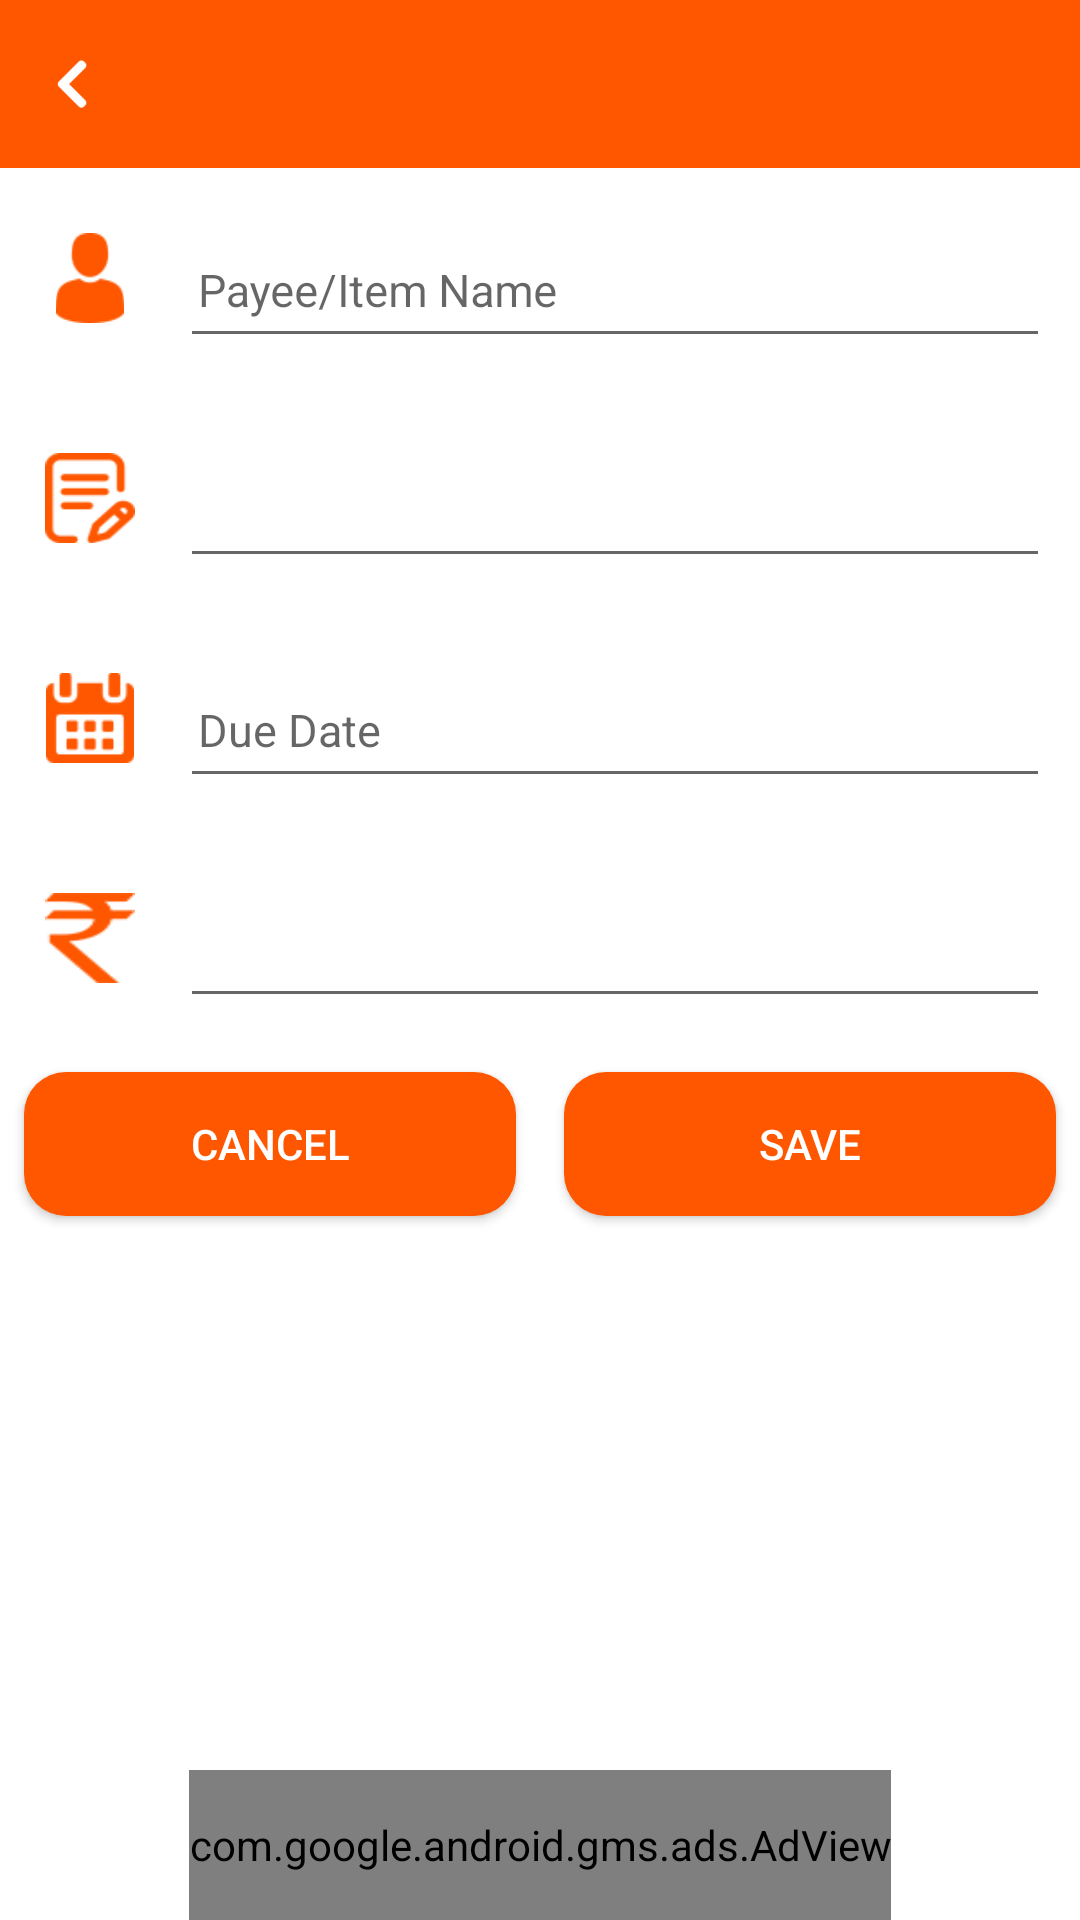

Named icons in this screenshot (1080px x 1920px) and their bounding boxes, bbox=[x1, y1, x2, y2]:
back: bbox=[57, 60, 87, 108]
note: bbox=[45, 453, 135, 543]
rupee: bbox=[45, 893, 135, 983]
